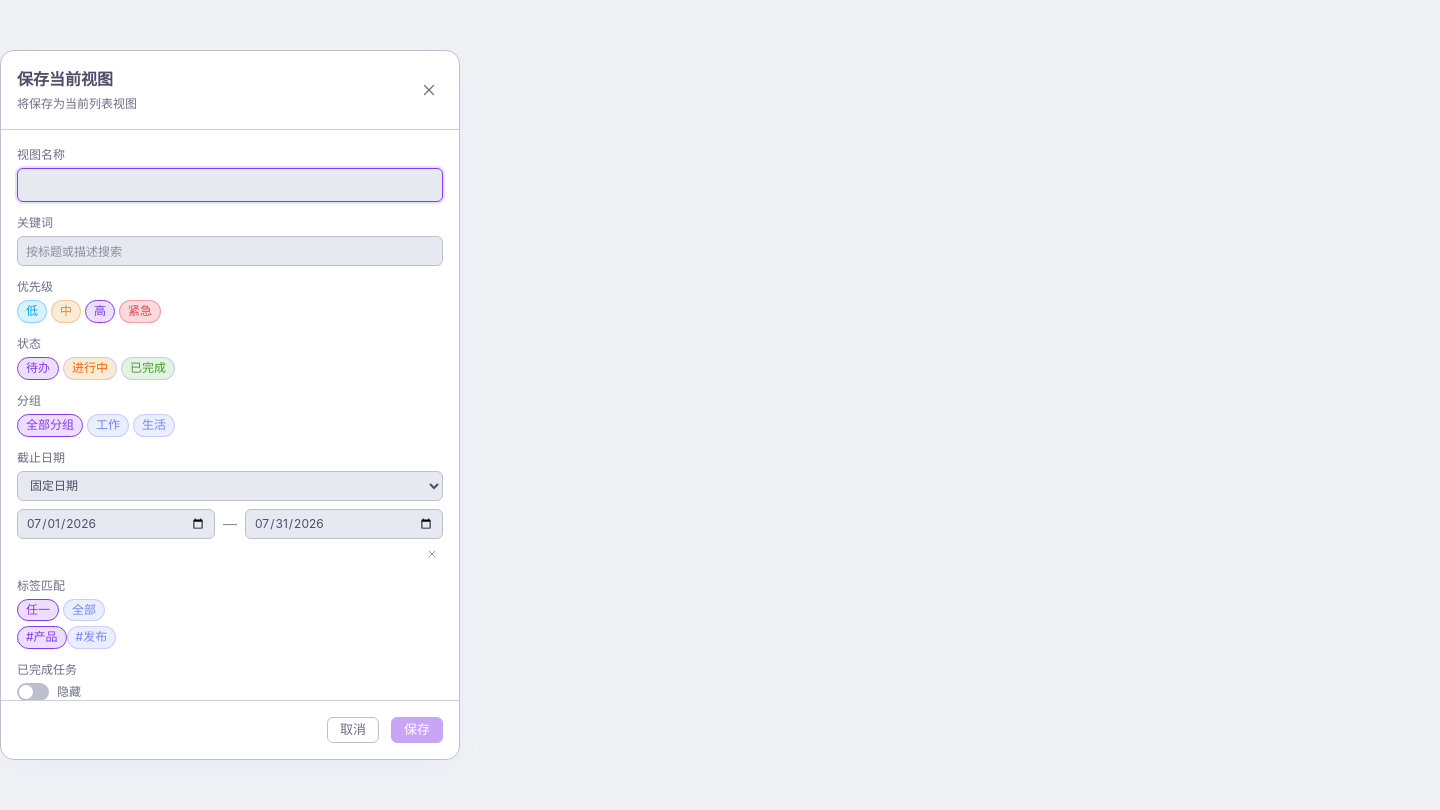
Test case: SavedViewDialog › 名称 trim 后为空时禁用保存
Expected: the button "保存" is disabled, [391,717,443,743]
Type "  新视图  " into the field named "saved-view-name" at (230, 185), box [17,168,443,202]
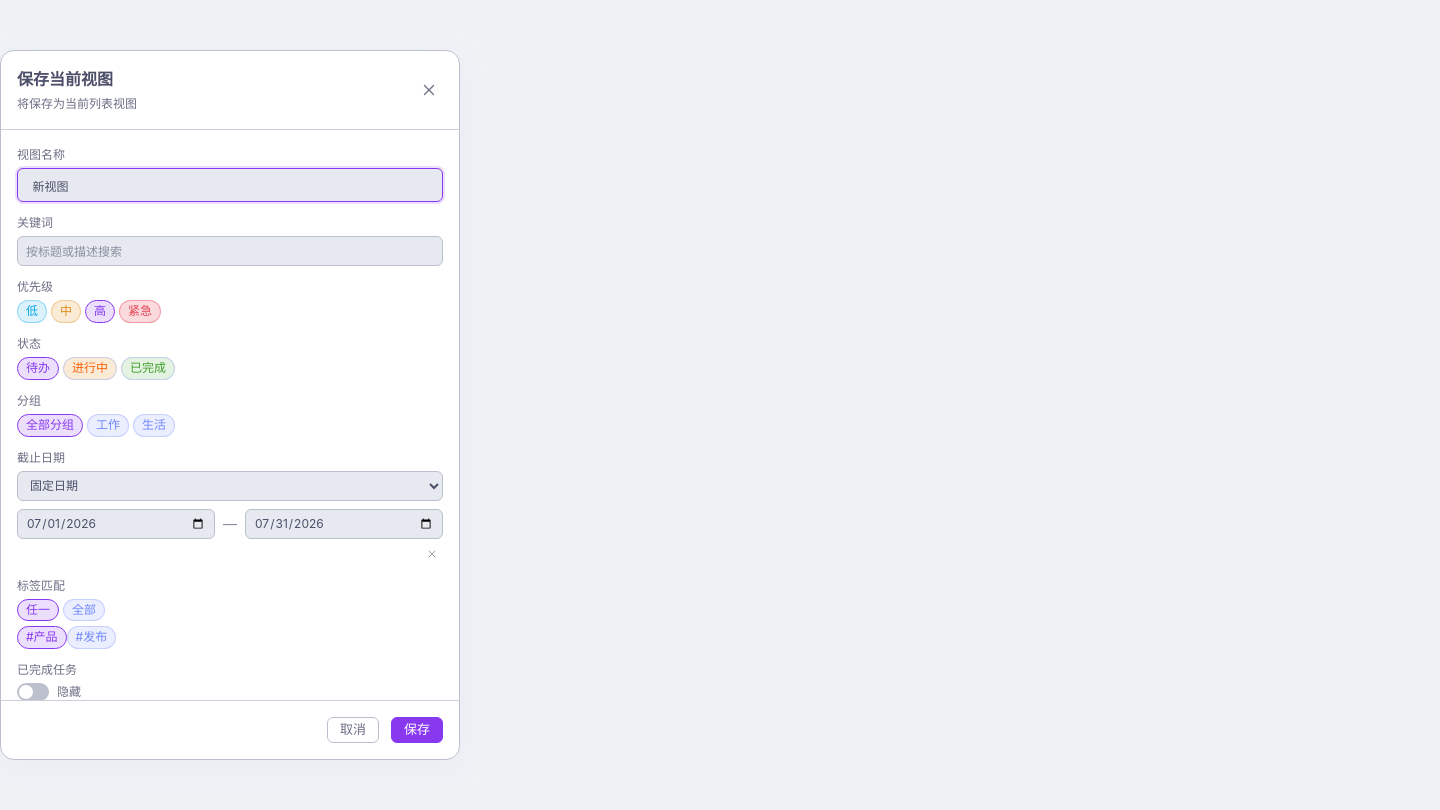
Result: the button "保存" is enabled at [391,717,443,743]
